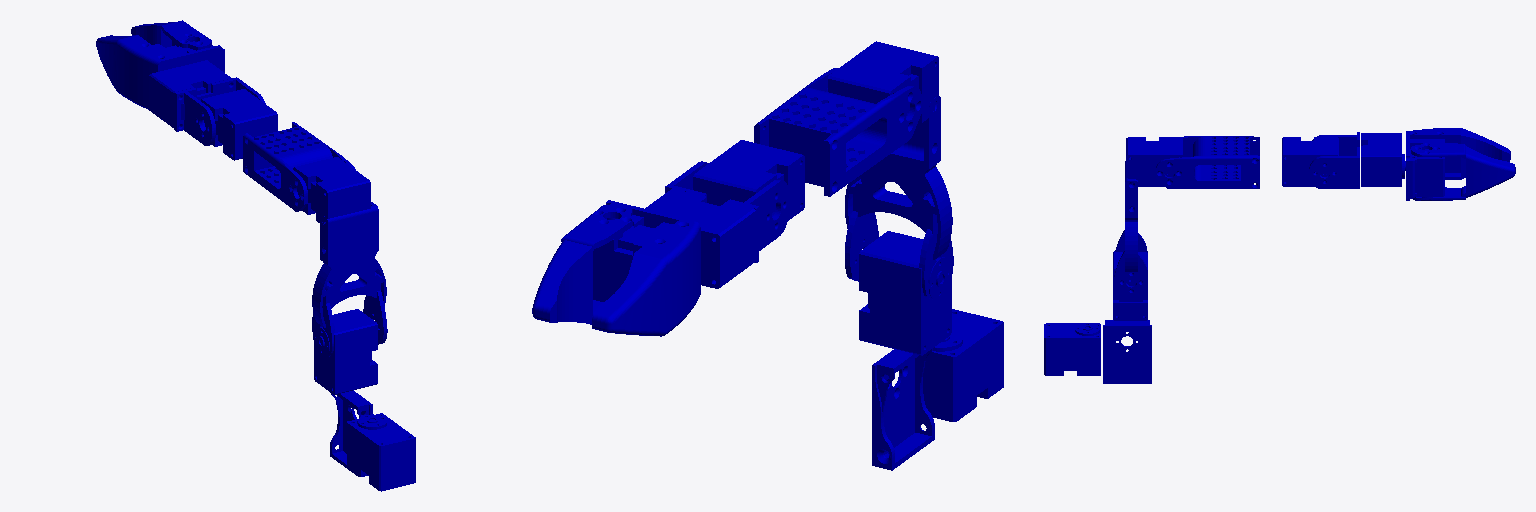
The robot description file, URDF, robot "jaw_roboarm":
<?xml version="1.0"?>
<robot name="jaw_roboarm" xmlns:xacro="http://www.ros.org/wiki/xacro">

  <material name="blue">
    <color rgba="0.0 0.0 0.8 1.0"/>
  </material>

  <link name="base_link">
    <visual>
      <origin rpy="1.5708 0 0" xyz="-0.52 0.8 0"/>
      <geometry><mesh filename="package://my_robot_description/meshes/baza.STL" scale="0.01 0.01 0.01"/></geometry>
      <material name="blue"/>
    </visual>
    <collision>
      <origin rpy="1.5708 0 0" xyz="-0.52 0.8 0"/>
      <geometry><mesh filename="package://my_robot_description/meshes/baza.STL" scale="0.01 0.01 0.01"/></geometry>
    </collision>
    <inertial>
      <origin rpy="0 0 0" xyz="-0.52 0.8 0"/><mass value="0.02"/>
      <inertia ixx="0.000104" ixy="0.0" ixz="0.0" iyy="0.000104" iyz="0.0" izz="0.000208"/>
    </inertial>
  </link>

  <link name="servo1_link">
    <visual>
      <origin rpy="1.5708 0 0" xyz="0.05 0.52 0.278"/>
      <geometry><mesh filename="package://my_robot_description/meshes/servo.STL" scale="0.01 0.01 0.01"/></geometry>
      <material name="blue"/>
    </visual>
    <collision>
      <origin rpy="1.5708 0 0" xyz="0.05 0.52 0.278"/>
      <geometry><mesh filename="package://my_robot_description/meshes/servo.STL" scale="0.01 0.01 0.01"/></geometry>
    </collision>
    <inertial><mass value="0.01"/><inertia ixx="1e-4" ixy="0" ixz="0" iyy="1e-4" iyz="0" izz="1e-4"/></inertial>
  </link>

  <joint name="servo1_base" type="fixed">
    <parent link="base_link"/><child link="servo1_link"/><origin rpy="0 0 0" xyz="0 0 0"/>
  </joint>

  <link name="p1_link"/>
  <joint name="p1_to_servo1" type="fixed">
    <origin rpy="0 0 0" xyz="0.19 0.41 0.4"/><parent link="servo1_link"/><child link="p1_link"/>
  </joint>

  <link name="baseToshoulder_link">
    <visual>
      <origin rpy="4.7124 -3.1416 1.5708" xyz="0.265 0.52 -0.23"/>
      <geometry><mesh filename="package://my_robot_description/meshes/base_to_shoulder.STL" scale="0.01 0.01 0.01"/></geometry>
      <material name="blue"/>
    </visual>
    <collision>
      <origin rpy="4.7124 -3.1416 1.5708" xyz="0.265 0.52 -0.23"/>
      <geometry><mesh filename="package://my_robot_description/meshes/base_to_shoulder.STL" scale="0.01 0.01 0.01"/></geometry>
    </collision>
    <inertial><mass value="0.02"/><inertia ixx="0.0001" ixy="0" ixz="0" iyy="0.0001" iyz="0" izz="0.0001"/></inertial>
  </link>

  <joint name="joint1" type="revolute">
    <parent link="p1_link"/><child link="baseToshoulder_link"/><axis xyz="0 0 1"/>
    <limit effort="10" lower="-1.5708" upper="1.5708" velocity="1.0"/>
  </joint>

  <link name="servo2_link">
    <visual>
      <origin rpy="0 3.1416 1.5708" xyz="0.165 0.49 0.85"/>
      <geometry><mesh filename="package://my_robot_description/meshes/servo.STL" scale="0.01 0.01 0.01"/></geometry>
      <material name="blue"/>
    </visual>
    <collision>
      <origin rpy="0 3.1416 1.5708" xyz="0.165 0.49 0.85"/>
      <geometry><mesh filename="package://my_robot_description/meshes/servo.STL" scale="0.01 0.01 0.01"/></geometry>
    </collision>
    <inertial><mass value="0.01"/><inertia ixx="1e-4" ixy="0" ixz="0" iyy="1e-4" iyz="0" izz="1e-4"/></inertial>
  </link>

  <joint name="servo2_to_baseToshoulder" type="fixed">
    <parent link="baseToshoulder_link"/><child link="servo2_link"/><origin rpy="0 0 0" xyz="0 0 0"/>
  </joint>

  <link name="p2_link"/>
  <link name="shoulder_link">
    <visual>
      <origin rpy="0 1.5708 3.1416" xyz="0.11 0.157 0.1"/>
      <geometry><mesh filename="package://my_robot_description/meshes/shoulder.STL" scale="0.01 0.01 0.01"/></geometry>
      <material name="blue"/>
    </visual>
    <collision>
      <origin rpy="0 1.5708 3.1416" xyz="0.11 0.157 0.1"/>
      <geometry><mesh filename="package://my_robot_description/meshes/shoulder.STL" scale="0.01 0.01 0.01"/></geometry>
    </collision>
    <inertial><mass value="0.02"/><inertia ixx="0.0001" ixy="0" ixz="0" iyy="0.0001" iyz="0" izz="0.0001"/></inertial>
  </link>

  <joint name="p2_to_servo2" type="fixed">
    <origin rpy="0 1.5708 0" xyz="0.19 0.347 0.74"/><parent link="servo2_link"/><child link="p2_link"/>
  </joint>

  <joint name="joint2" type="revolute">
    <parent link="p2_link"/><child link="shoulder_link"/><axis xyz="0 0 -1"/>
    <limit effort="10" lower="-1.5708" upper="1.5708" velocity="1.0"/>
  </joint>

  <link name="servo3_link">
    <visual>
      <origin rpy="-1.5708 3.1416 3.1416" xyz="-1.139 0.431 -0.36"/>
      <geometry><mesh filename="package://my_robot_description/meshes/servo.STL" scale="0.01 0.01 0.01"/></geometry>
      <material name="blue"/>
    </visual>
    <collision>
      <origin rpy="-1.5708 3.1416 3.1416" xyz="-1.139 0.431 -0.36"/>
      <geometry><mesh filename="package://my_robot_description/meshes/servo.STL" scale="0.01 0.01 0.01"/></geometry>
    </collision>
    <inertial><mass value="0.01"/><inertia ixx="1e-4" ixy="0" ixz="0" iyy="1e-4" iyz="0" izz="1e-4"/></inertial>
  </link>

  <joint name="servo3_to_shoulder" type="fixed">
    <parent link="shoulder_link"/><child link="servo3_link"/><origin rpy="0 0 0" xyz="0 0 0"/>
  </joint>

  <link name="p3_link"/>
  <link name="elbow_link">
    <visual>
      <origin rpy="0 1.5708 3.1416" xyz="0.113 0.148 0.03"/>
      <geometry><mesh filename="package://my_robot_description/meshes/elbow.STL" scale="0.01 0.01 0.01"/></geometry>
      <material name="blue"/>
    </visual>
    <collision>
      <origin rpy="0 1.5708 3.1416" xyz="0.113 0.148 0.03"/>
      <geometry><mesh filename="package://my_robot_description/meshes/elbow.STL" scale="0.01 0.01 0.01"/></geometry>
    </collision>
    <inertial><mass value="0.02"/><inertia ixx="0.0001" ixy="0" ixz="0" iyy="0.0001" iyz="0" izz="0.0001"/></inertial>
  </link>

  <joint name="p3_to_servo3" type="fixed">
    <origin rpy="0 0 0" xyz="-1.0 0.32 0"/><parent link="servo3_link"/><child link="p3_link"/>
  </joint>

  <joint name="joint3" type="revolute">
    <origin rpy="0 0 -1.5708" xyz="0 0 0"/><parent link="p3_link"/><child link="elbow_link"/><axis xyz="0 0 1"/>
    <limit effort="10" lower="-1.5708" upper="1.5708" velocity="1.0"/>
  </joint>

  <link name="servo4_link">
    <visual>
      <origin rpy="1.5708 0 1.5708" xyz="-1.38 -0.139 -0.36"/>
      <geometry><mesh filename="package://my_robot_description/meshes/servo.STL" scale="0.01 0.01 0.01"/></geometry>
      <material name="blue"/>
    </visual>
    <collision>
      <origin rpy="1.5708 0 1.5708" xyz="-1.38 -0.139 -0.36"/>
      <geometry><mesh filename="package://my_robot_description/meshes/servo.STL" scale="0.01 0.01 0.01"/></geometry>
    </collision>
    <inertial><mass value="0.01"/><inertia ixx="1e-4" ixy="0" ixz="0" iyy="1e-4" iyz="0" izz="1e-4"/></inertial>
  </link>

  <joint name="servo4_to_elbow" type="fixed">
    <parent link="elbow_link"/><child link="servo4_link"/><origin rpy="0 0 0" xyz="0 0 0"/>
  </joint>

  <link name="p4_link"/>
  <link name="wrist_link">
    <visual>
      <origin rpy="1.5708 1.5708 3.1416" xyz="0.1429 -0.2877 0.03"/>
      <geometry><mesh filename="package://my_robot_description/meshes/wrist.STL" scale="0.01 0.01 0.01"/></geometry>
      <material name="blue"/>
    </visual>
    <collision>
      <origin rpy="1.5708 1.5708 3.1416" xyz="0.1429 -0.2877 0.03"/>
      <geometry><mesh filename="package://my_robot_description/meshes/wrist.STL" scale="0.01 0.01 0.01"/></geometry>
    </collision>
    <inertial><mass value="0.02"/><inertia ixx="0.0001" ixy="0" ixz="0" iyy="0.0001" iyz="0" izz="0.0001"/></inertial>
  </link>

  <joint name="p4_to_servo4" type="fixed">
    <origin rpy="0 0 0" xyz="-1.268 0.005 0"/><parent link="servo4_link"/><child link="p4_link"/>
  </joint>

  <joint name="joint4" type="revolute">
    <origin rpy="0 0 -1.5708" xyz="0 0 0"/><parent link="p4_link"/><child link="wrist_link"/><axis xyz="0 0 1"/>
    <limit effort="10" lower="-1.5708" upper="1.5708" velocity="1.0"/>
  </joint>

  <link name="servo5_link">
    <visual>
      <origin rpy="3.1416 0 0" xyz="0 -0.01 0"/>
      <geometry><mesh filename="package://my_robot_description/meshes/servo.STL" scale="0.01 0.01 0.01"/></geometry>
      <material name="blue"/>
    </visual>
    <collision>
      <origin rpy="3.1416 0 0" xyz="0 -0.01 0"/>
      <geometry><mesh filename="package://my_robot_description/meshes/servo.STL" scale="0.01 0.01 0.01"/></geometry>
    </collision>
    <inertial><mass value="0.01"/><inertia ixx="1e-4" ixy="0" ixz="0" iyy="1e-4" iyz="0" izz="1e-4"/></inertial>
  </link>

  <joint name="servo5_to_wrist" type="fixed">
    <origin rpy="0 0 0" xyz="-0.141 -0.28 0"/><parent link="wrist_link"/><child link="servo5_link"/>
  </joint>

  <link name="p5_link"/>
  <link name="staticgrip_link">
    <visual>
      <origin rpy="1.5708 0 4.7123" xyz="0.2 0.335 0"/>
      <geometry><mesh filename="package://my_robot_description/meshes/static_gripper.STL" scale="0.01 0.01 0.01"/></geometry>
      <material name="blue"/>
    </visual>
    <collision>
      <origin rpy="1.5708 0 4.7123" xyz="0.2 0.335 0"/>
      <geometry><mesh filename="package://my_robot_description/meshes/static_gripper.STL" scale="0.01 0.01 0.01"/></geometry>
    </collision>
    <inertial><mass value="0.01"/><inertia ixx="0.0001" ixy="0" ixz="0" iyy="0.0001" iyz="0" izz="0.0001"/></inertial>
  </link>

  <joint name="p5_to_servo5" type="fixed">
    <origin rpy="0 1.5708 0" xyz="0 0 0"/><parent link="servo5_link"/><child link="p5_link"/>
  </joint>

  <joint name="joint5" type="revolute">
    <origin rpy="1.5708 1.5708 0" xyz="0.115 -0.38 0.139"/><parent link="p5_link"/><child link="staticgrip_link"/><axis xyz="0 0 1"/>
    <limit effort="10" lower="-1.5708" upper="1.5708" velocity="1.0"/>
  </joint>

  <link name="servo6_link">
    <visual>
      <origin rpy="1.5708 -1.5708 3.1416" xyz="-0.0325 0.05 0.03"/>
      <geometry><mesh filename="package://my_robot_description/meshes/servo.STL" scale="0.01 0.01 0.01"/></geometry>
      <material name="blue"/>
    </visual>
    <collision>
      <origin rpy="1.5708 -1.5708 3.1416" xyz="-0.0325 0.05 0.03"/>
      <geometry><mesh filename="package://my_robot_description/meshes/servo.STL" scale="0.01 0.01 0.01"/></geometry>
    </collision>
    <inertial><mass value="0.01"/><inertia ixx="1e-4" ixy="0" ixz="0" iyy="1e-4" iyz="0" izz="1e-4"/></inertial>
  </link>

  <joint name="servo6_to_staticgrip" type="fixed">
    <origin rpy="0 0 0" xyz="-0.141 -0.28 0"/><parent link="staticgrip_link"/><child link="servo6_link"/>
  </joint>

  <link name="p6_link"/>
  <link name="mobilegrip_link">
    <visual>
      <origin rpy="0 0 3.1416" xyz="0.1125 0.13 -0.415"/>
      <geometry><mesh filename="package://my_robot_description/meshes/mobile_gripper.STL" scale="0.01 0.01 0.01"/></geometry>
      <material name="blue"/>
    </visual>
    <collision>
      <origin rpy="0 0 3.1416" xyz="0.1125 0.13 -0.415"/>
      <geometry><mesh filename="package://my_robot_description/meshes/mobile_gripper.STL" scale="0.01 0.01 0.01"/></geometry>
    </collision>
    <inertial><mass value="0.01"/><inertia ixx="0.0001" ixy="0" ixz="0" iyy="0.0001" iyz="0" izz="0.0001"/></inertial>
  </link>

  <joint name="p6_to_servo6" type="fixed">
    <origin rpy="3.1416 0 0" xyz="0 0 0"/><parent link="servo6_link"/><child link="p6_link"/>
  </joint>

  <joint name="joint6" type="revolute">
    <origin rpy="1.5708 0 1.5708" xyz="0.335 -0.165 -0.17"/><parent link="p6_link"/><child link="mobilegrip_link"/><axis xyz="0 0 1"/>
    <limit effort="10" lower="-1.5708" upper="1.5708" velocity="1.0"/>
  </joint>

</robot>

--- What the picture shows (computed from the rendered views, not written in the file) ---
Views: 3 orthographic renders of the robot side by side, from view 1: azimuth 30°, elevation 25°; view 2: azimuth 150°, elevation 25°; view 3: azimuth 270°, elevation 25°.
Robot: jaw_roboarm — 19 links, 18 joints (6 revolute, 12 fixed); root link base_link; default pose: every joint at zero.
Links seen in each view (by area): view 1: shoulder_link, elbow_link, servo1_link, servo2_link, staticgrip_link, servo3_link, servo4_link, servo5_link, wrist_link, mobilegrip_link, baseToshoulder_link; view 2: elbow_link, shoulder_link, servo2_link, staticgrip_link, servo1_link, baseToshoulder_link, mobilegrip_link, servo5_link, servo4_link, servo3_link, servo6_link, wrist_link; view 3: elbow_link, baseToshoulder_link, servo1_link, mobilegrip_link, shoulder_link, staticgrip_link, servo5_link, servo3_link, wrist_link, servo4_link, servo6_link, servo2_link.
Boxes of the visible links, x1=… form: shoulder_link: x1=312, y1=202, x2=387, y2=356; elbow_link: x1=243, y1=122, x2=355, y2=211; servo1_link: x1=347, y1=413, x2=415, y2=491; servo2_link: x1=314, y1=309, x2=377, y2=394; staticgrip_link: x1=96, y1=35, x2=224, y2=109; servo3_link: x1=293, y1=157, x2=370, y2=224; servo4_link: x1=201, y1=89, x2=277, y2=160; servo5_link: x1=149, y1=60, x2=231, y2=127; wrist_link: x1=174, y1=77, x2=265, y2=145; mobilegrip_link: x1=131, y1=20, x2=211, y2=50; baseToshoulder_link: x1=330, y1=390, x2=372, y2=476; elbow_link: x1=754, y1=68, x2=921, y2=196; shoulder_link: x1=845, y1=96, x2=953, y2=299; servo2_link: x1=859, y1=231, x2=951, y2=355; staticgrip_link: x1=592, y1=200, x2=700, y2=336; servo1_link: x1=923, y1=309, x2=1003, y2=421; baseToshoulder_link: x1=872, y1=349, x2=934, y2=470; mobilegrip_link: x1=532, y1=204, x2=632, y2=324; servo5_link: x1=645, y1=188, x2=755, y2=288; servo4_link: x1=692, y1=140, x2=804, y2=220; servo3_link: x1=826, y1=41, x2=938, y2=122; servo6_link: x1=593, y1=215, x2=672, y2=301; wrist_link: x1=665, y1=161, x2=790, y2=262; elbow_link: x1=1156, y1=136, x2=1259, y2=188; baseToshoulder_link: x1=1103, y1=320, x2=1151, y2=383; servo1_link: x1=1044, y1=323, x2=1100, y2=375; mobilegrip_link: x1=1411, y1=143, x2=1515, y2=200; shoulder_link: x1=1114, y1=161, x2=1147, y2=297; staticgrip_link: x1=1406, y1=128, x2=1510, y2=200; servo5_link: x1=1361, y1=133, x2=1405, y2=186; servo3_link: x1=1126, y1=137, x2=1182, y2=186; wrist_link: x1=1309, y1=132, x2=1359, y2=188; servo4_link: x1=1282, y1=137, x2=1338, y2=186; servo6_link: x1=1410, y1=139, x2=1444, y2=197; servo2_link: x1=1113, y1=251, x2=1147, y2=320.
Size in the robot's own frame: 0.6174 by 3.84 by 2.18 metres.
12 mesh visuals loaded from 8 distinct referenced files (7 binary STL); not drawn: 1 (reference not matched to a file when rendering).
